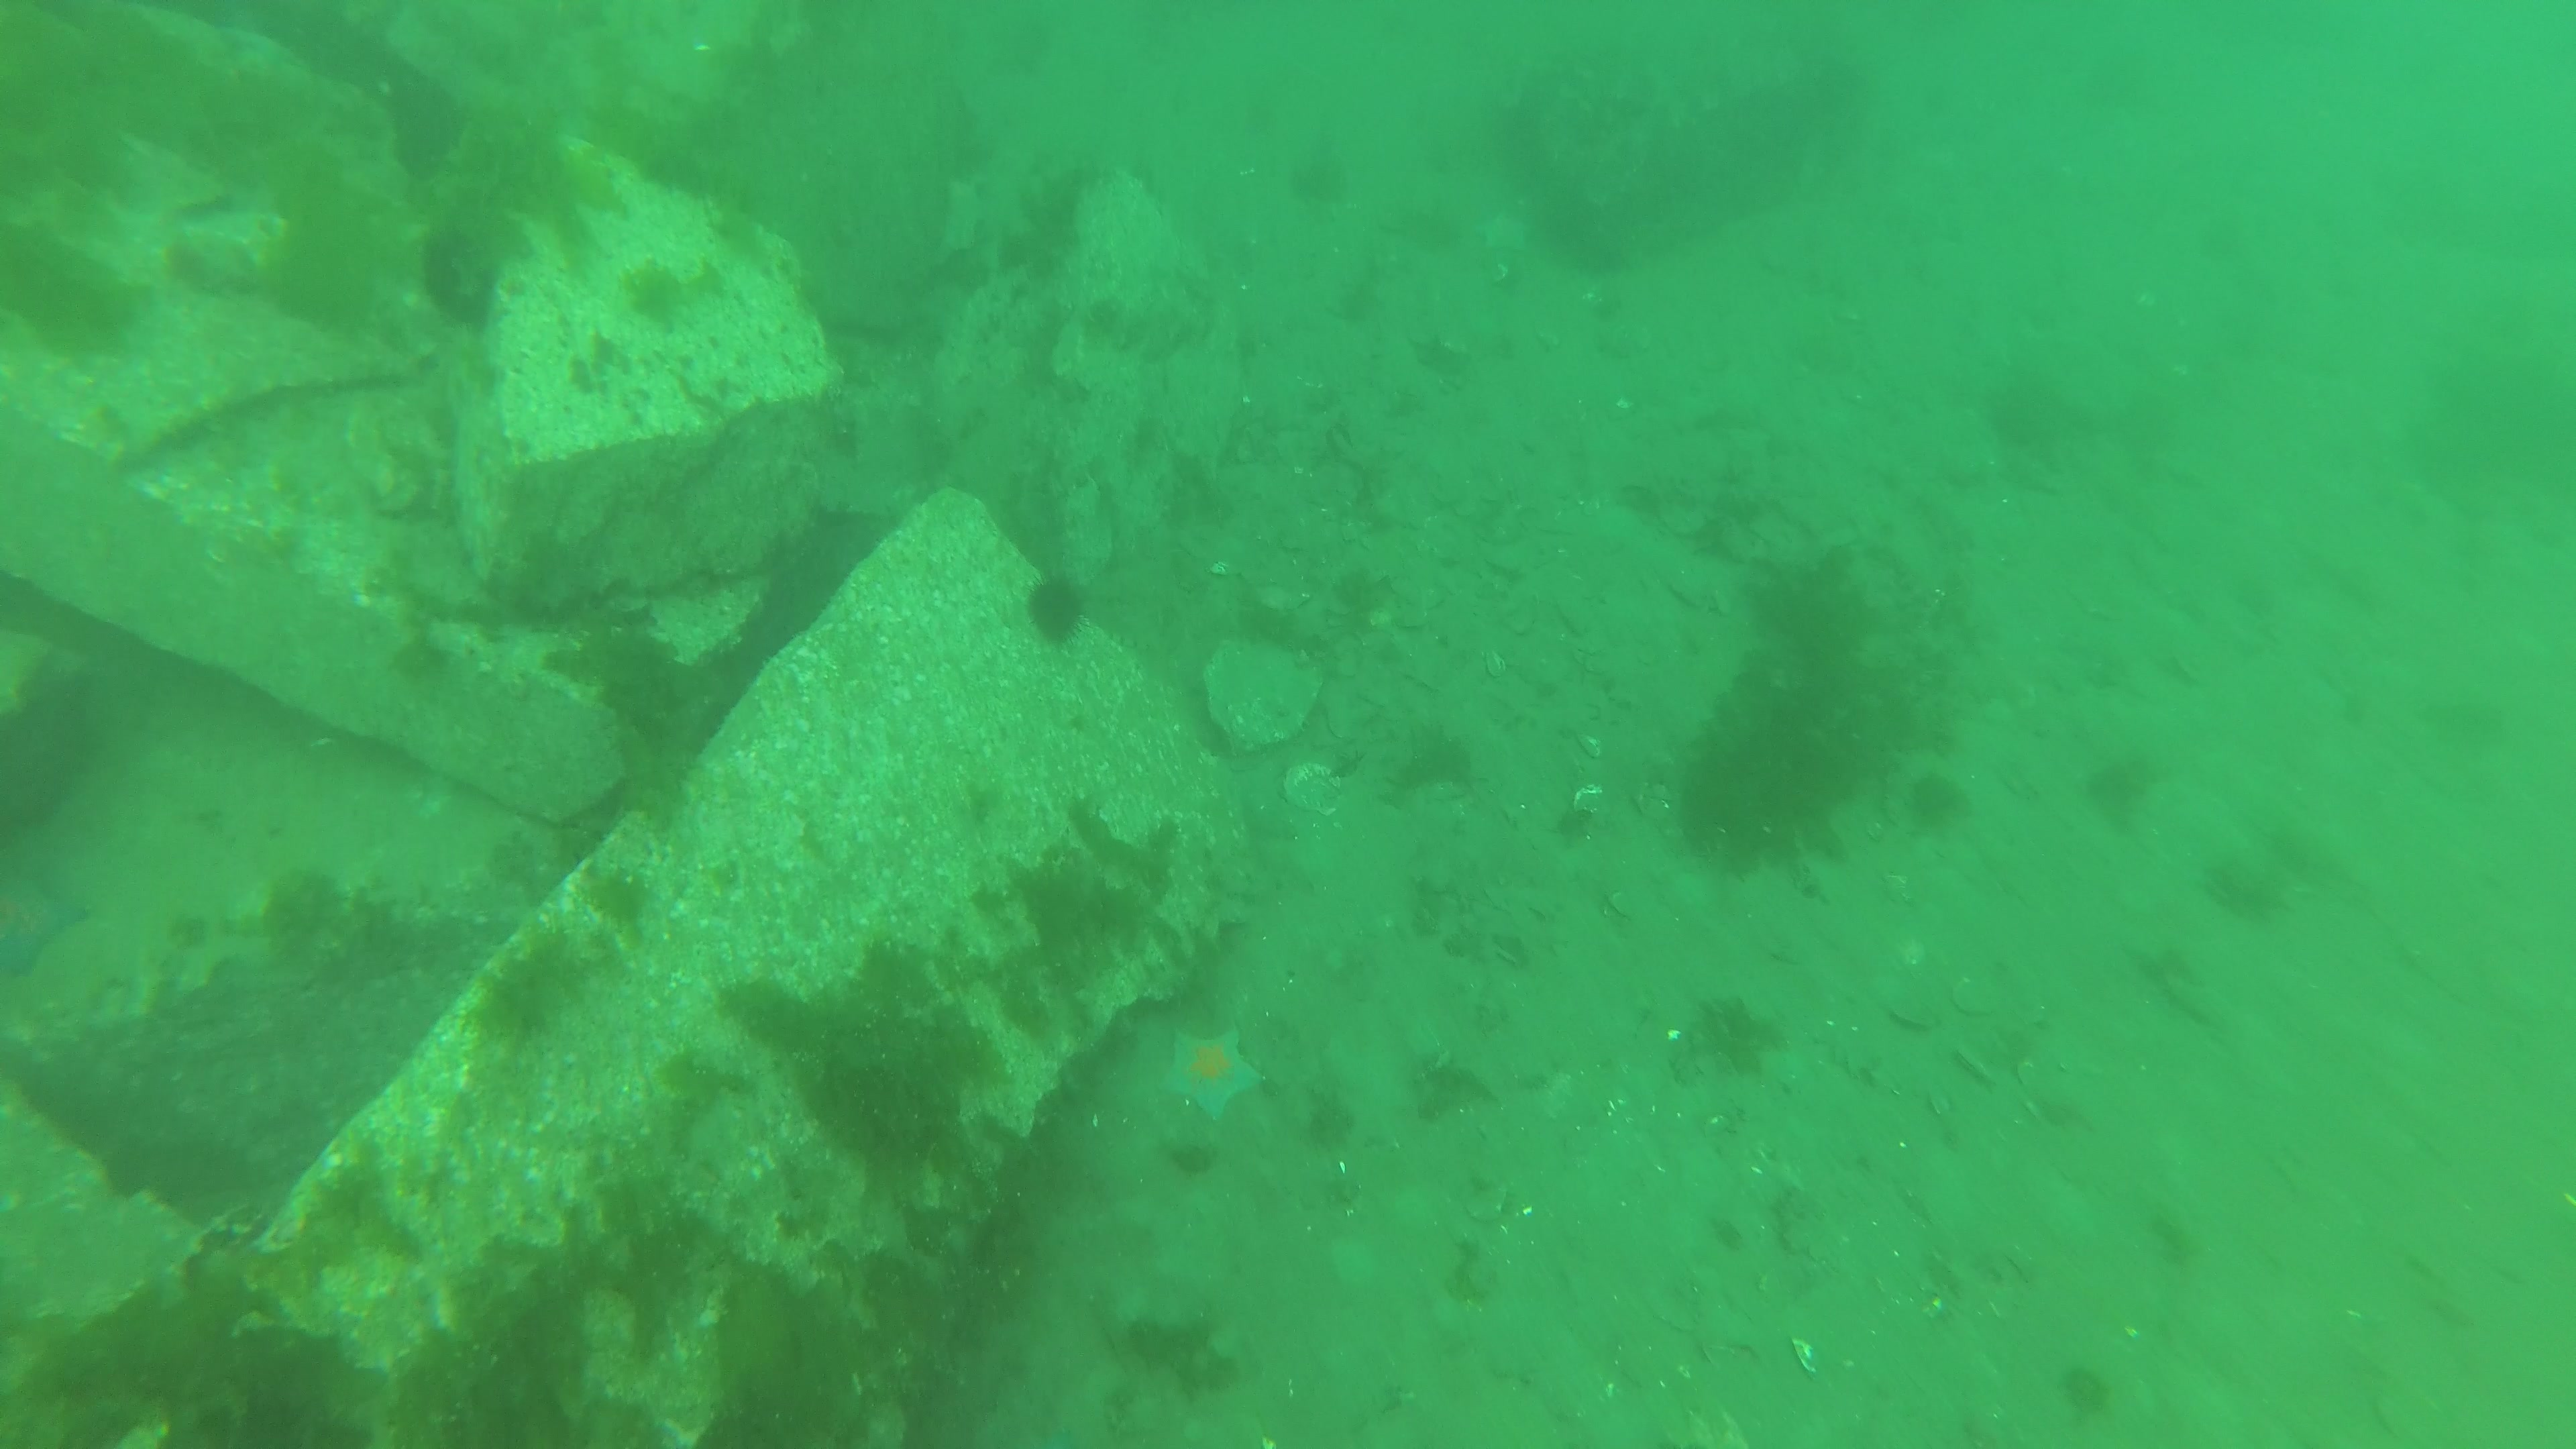echinus: (418, 221, 494, 327), (1021, 564, 1092, 648)
scallop: (1281, 759, 1346, 817)
starfish: (1155, 1024, 1267, 1123), (0, 874, 94, 977), (1474, 212, 1529, 253)
